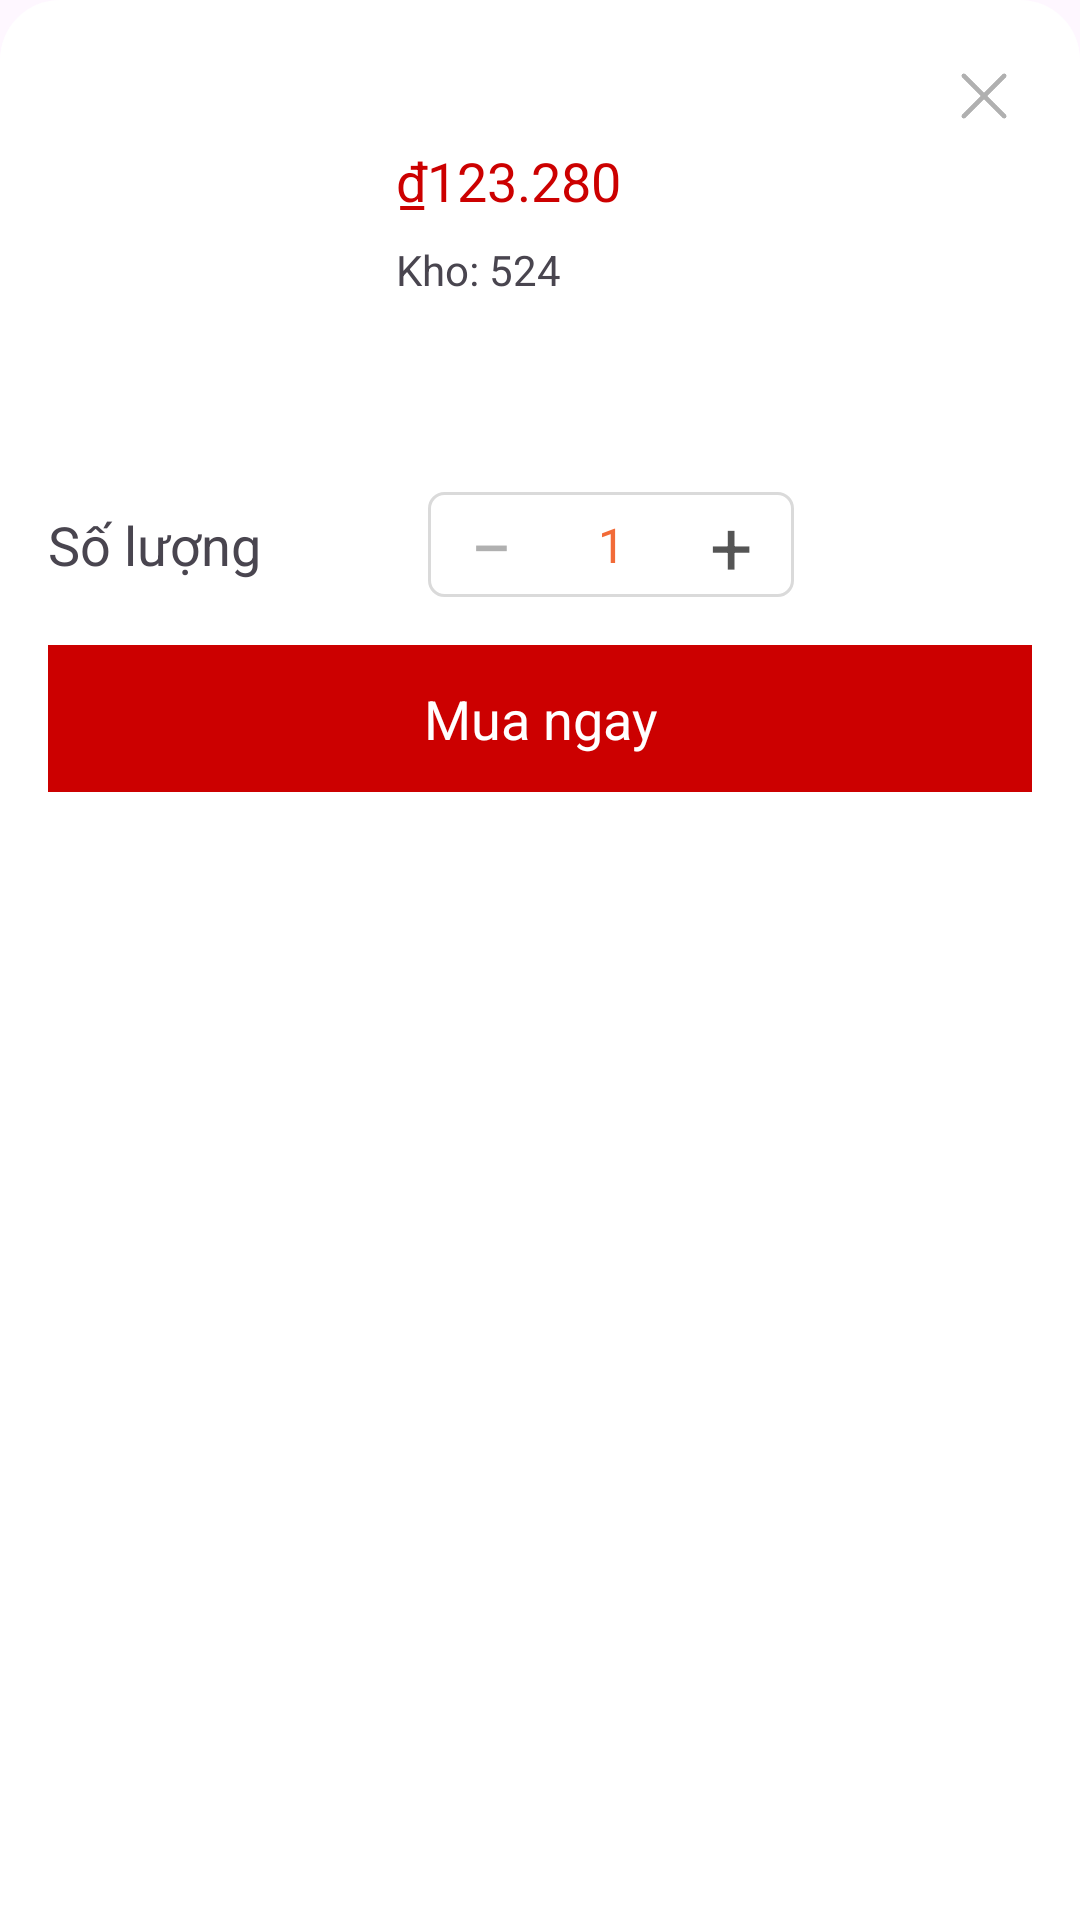

Screen size 1080px×1920px. Icon name, then its center in pixels as [x,y]:
Đóng: [984,96]
